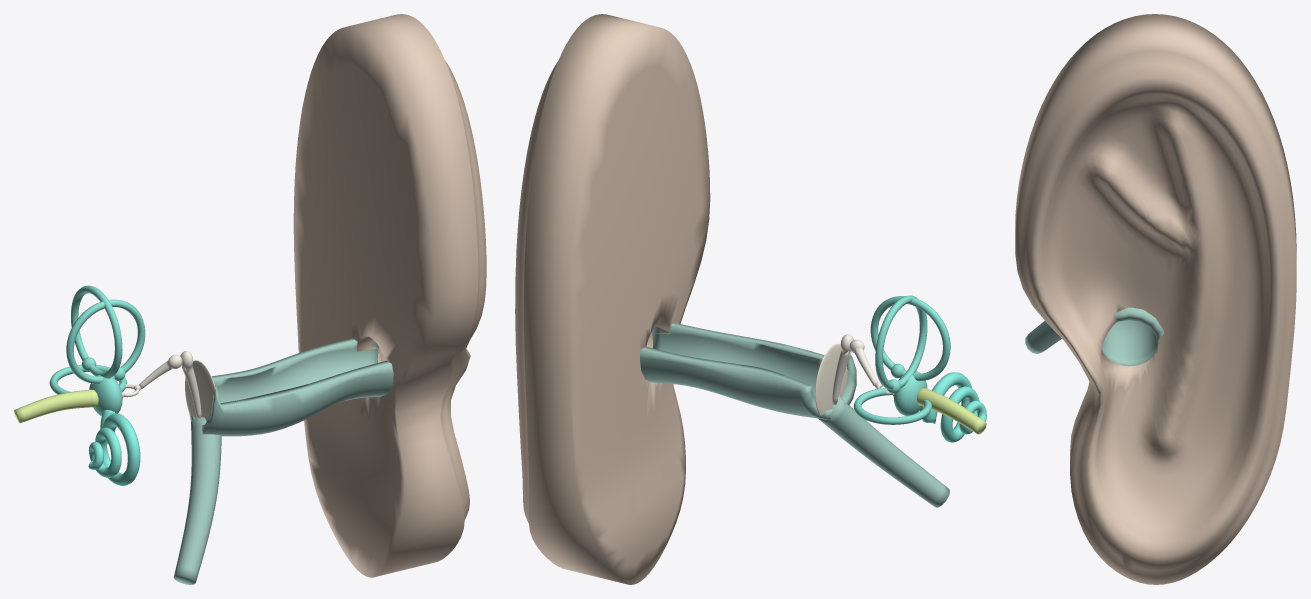
Rendered from outer-ear.glb.
The picture shows the model from 3 angles, left to right: view 1: azimuth 30°, elevation 25°; view 2: azimuth 150°, elevation 25°; view 3: azimuth 270°, elevation 25°; orthographic projection.
Visible parts, largest first — view 1: Right auricle with helix antihelix concha tragus and lobule, External auditory canal with superior teaching cut, Auditory tube schematic continuation, Cochlea with two and three-quarter spiral turns, Anterior semicircular canal, Posterior semicircular canal, Auditory nerve stump, Tympanic membrane, Vestibule, Malleus attached to tympanic membrane; view 2: Right auricle with helix antihelix concha tragus and lobule, External auditory canal with superior teaching cut, Auditory tube schematic continuation, Cochlea with two and three-quarter spiral turns, Posterior semicircular canal, Anterior semicircular canal, Tympanic membrane, Auditory nerve stump, Lateral semicircular canal, Vestibule, Malleus attached to tympanic membrane; view 3: Right auricle with helix antihelix concha tragus and lobule, External auditory canal with superior teaching cut, Auditory tube schematic continuation.
Part boxes in pixels (x1,y1,x2,y2): Right auricle with helix antihelix concha tragus and lobule: (293, 14, 486, 577); External auditory canal with superior teaching cut: (189, 338, 393, 436); Auditory tube schematic continuation: (173, 417, 221, 584); Cochlea with two and three-quarter spiral turns: (88, 410, 140, 485); Anterior semicircular canal: (66, 299, 145, 383); Posterior semicircular canal: (71, 285, 122, 378); Auditory nerve stump: (14, 389, 98, 423); Tympanic membrane: (185, 360, 215, 421); Vestibule: (89, 375, 122, 415); Malleus attached to tympanic membrane: (180, 351, 201, 417); Right auricle with helix antihelix concha tragus and lobule: (515, 14, 710, 584); External auditory canal with superior teaching cut: (640, 322, 856, 419); Auditory tube schematic continuation: (818, 396, 949, 507); Cochlea with two and three-quarter spiral turns: (919, 372, 986, 442); Posterior semicircular canal: (875, 295, 927, 389); Anterior semicircular canal: (870, 296, 950, 381); Tympanic membrane: (815, 343, 847, 419); Auditory nerve stump: (917, 387, 986, 434); Lateral semicircular canal: (853, 388, 932, 424); Vestibule: (893, 371, 927, 415); Malleus attached to tympanic membrane: (832, 334, 853, 404); Right auricle with helix antihelix concha tragus and lobule: (1015, 14, 1296, 584); External auditory canal with superior teaching cut: (1101, 307, 1164, 366); Auditory tube schematic continuation: (1025, 321, 1061, 353).
Size of the model in its own units: 0.0537 by 0.065 by 0.0305.
